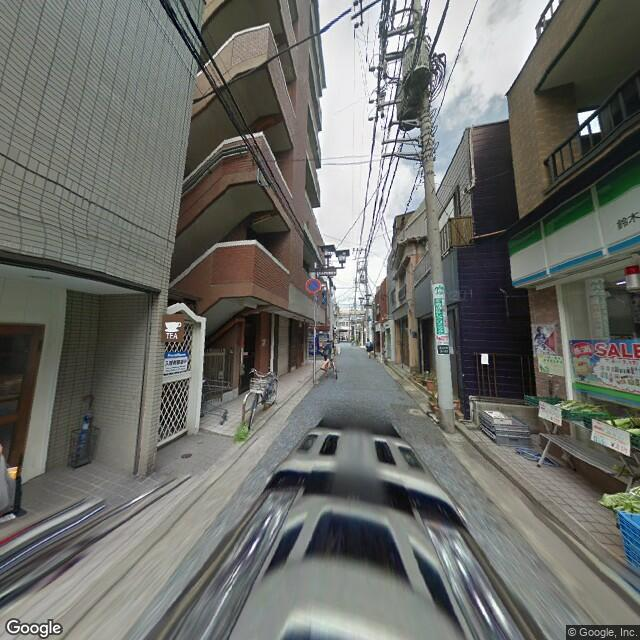family_mart: (513, 152, 637, 284)
